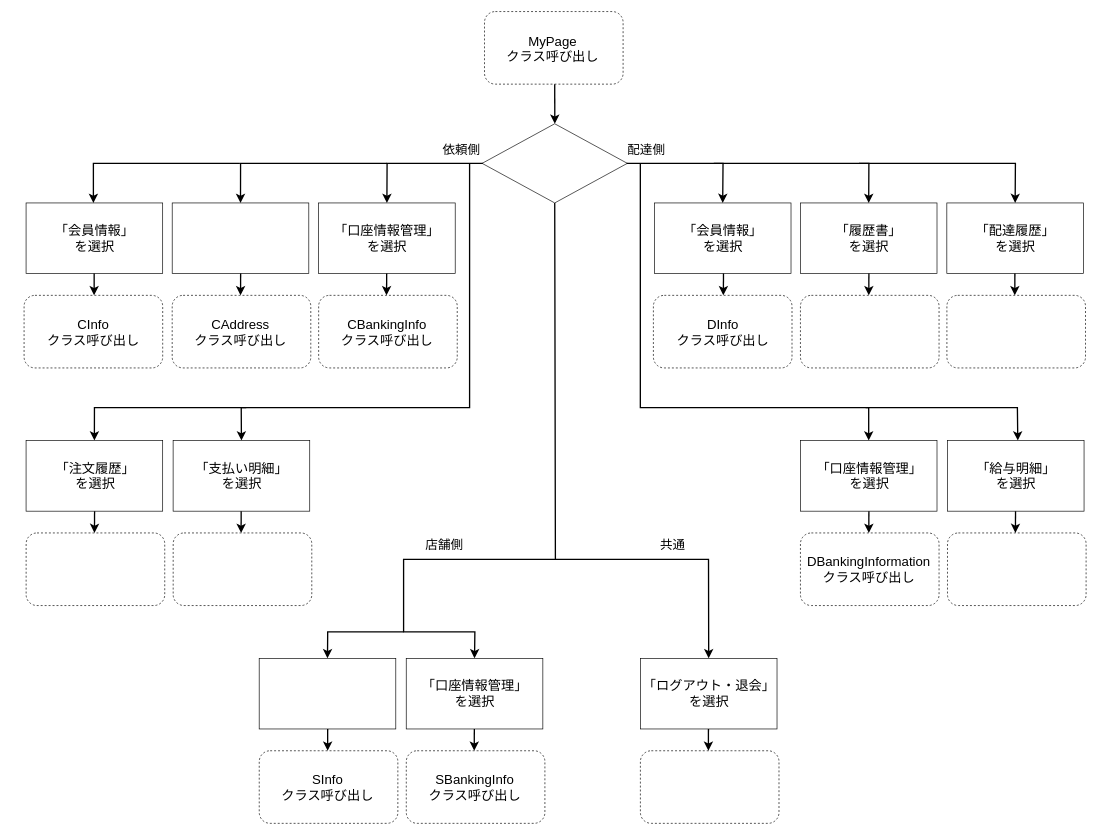
The diagram is 1109 pixels wide and 835 high, and some of its shapes have lost their labels. The shapes that lost their labels are listed below. From the top down, each one's centre as x and y in pixels, then its label:
At (554,163): "依頼側 or 配達側 or 店舗側 or 共通".
At (240,238): "「配達先住所編集」 を選択".
At (869,331): "DResumeDetail クラス呼び出し".
At (1016,331): "DDeliveryHistory クラス呼び出し".
At (95,569): "COrderHistory クラス呼び出し".
At (242,569): "CPayment クラス呼び出し".
At (1016,569): "DPayslip クラス呼び出し".
At (327,693): "「店舗情報」 を選択".
At (709,786): "LogoutWithdrawPage クラス呼び出し".
